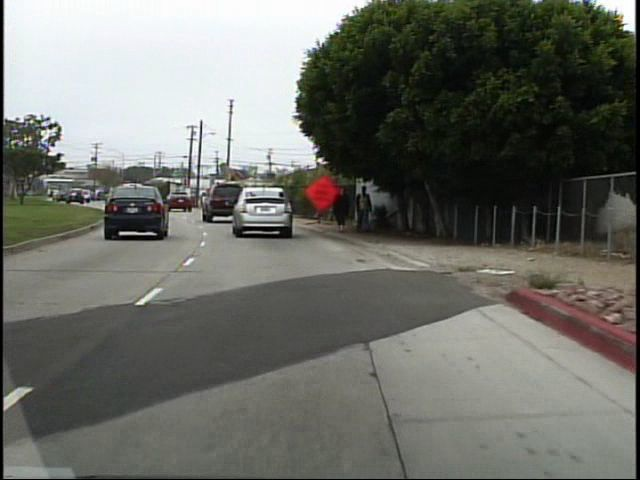person: (330, 179, 356, 237), (354, 182, 377, 237)
